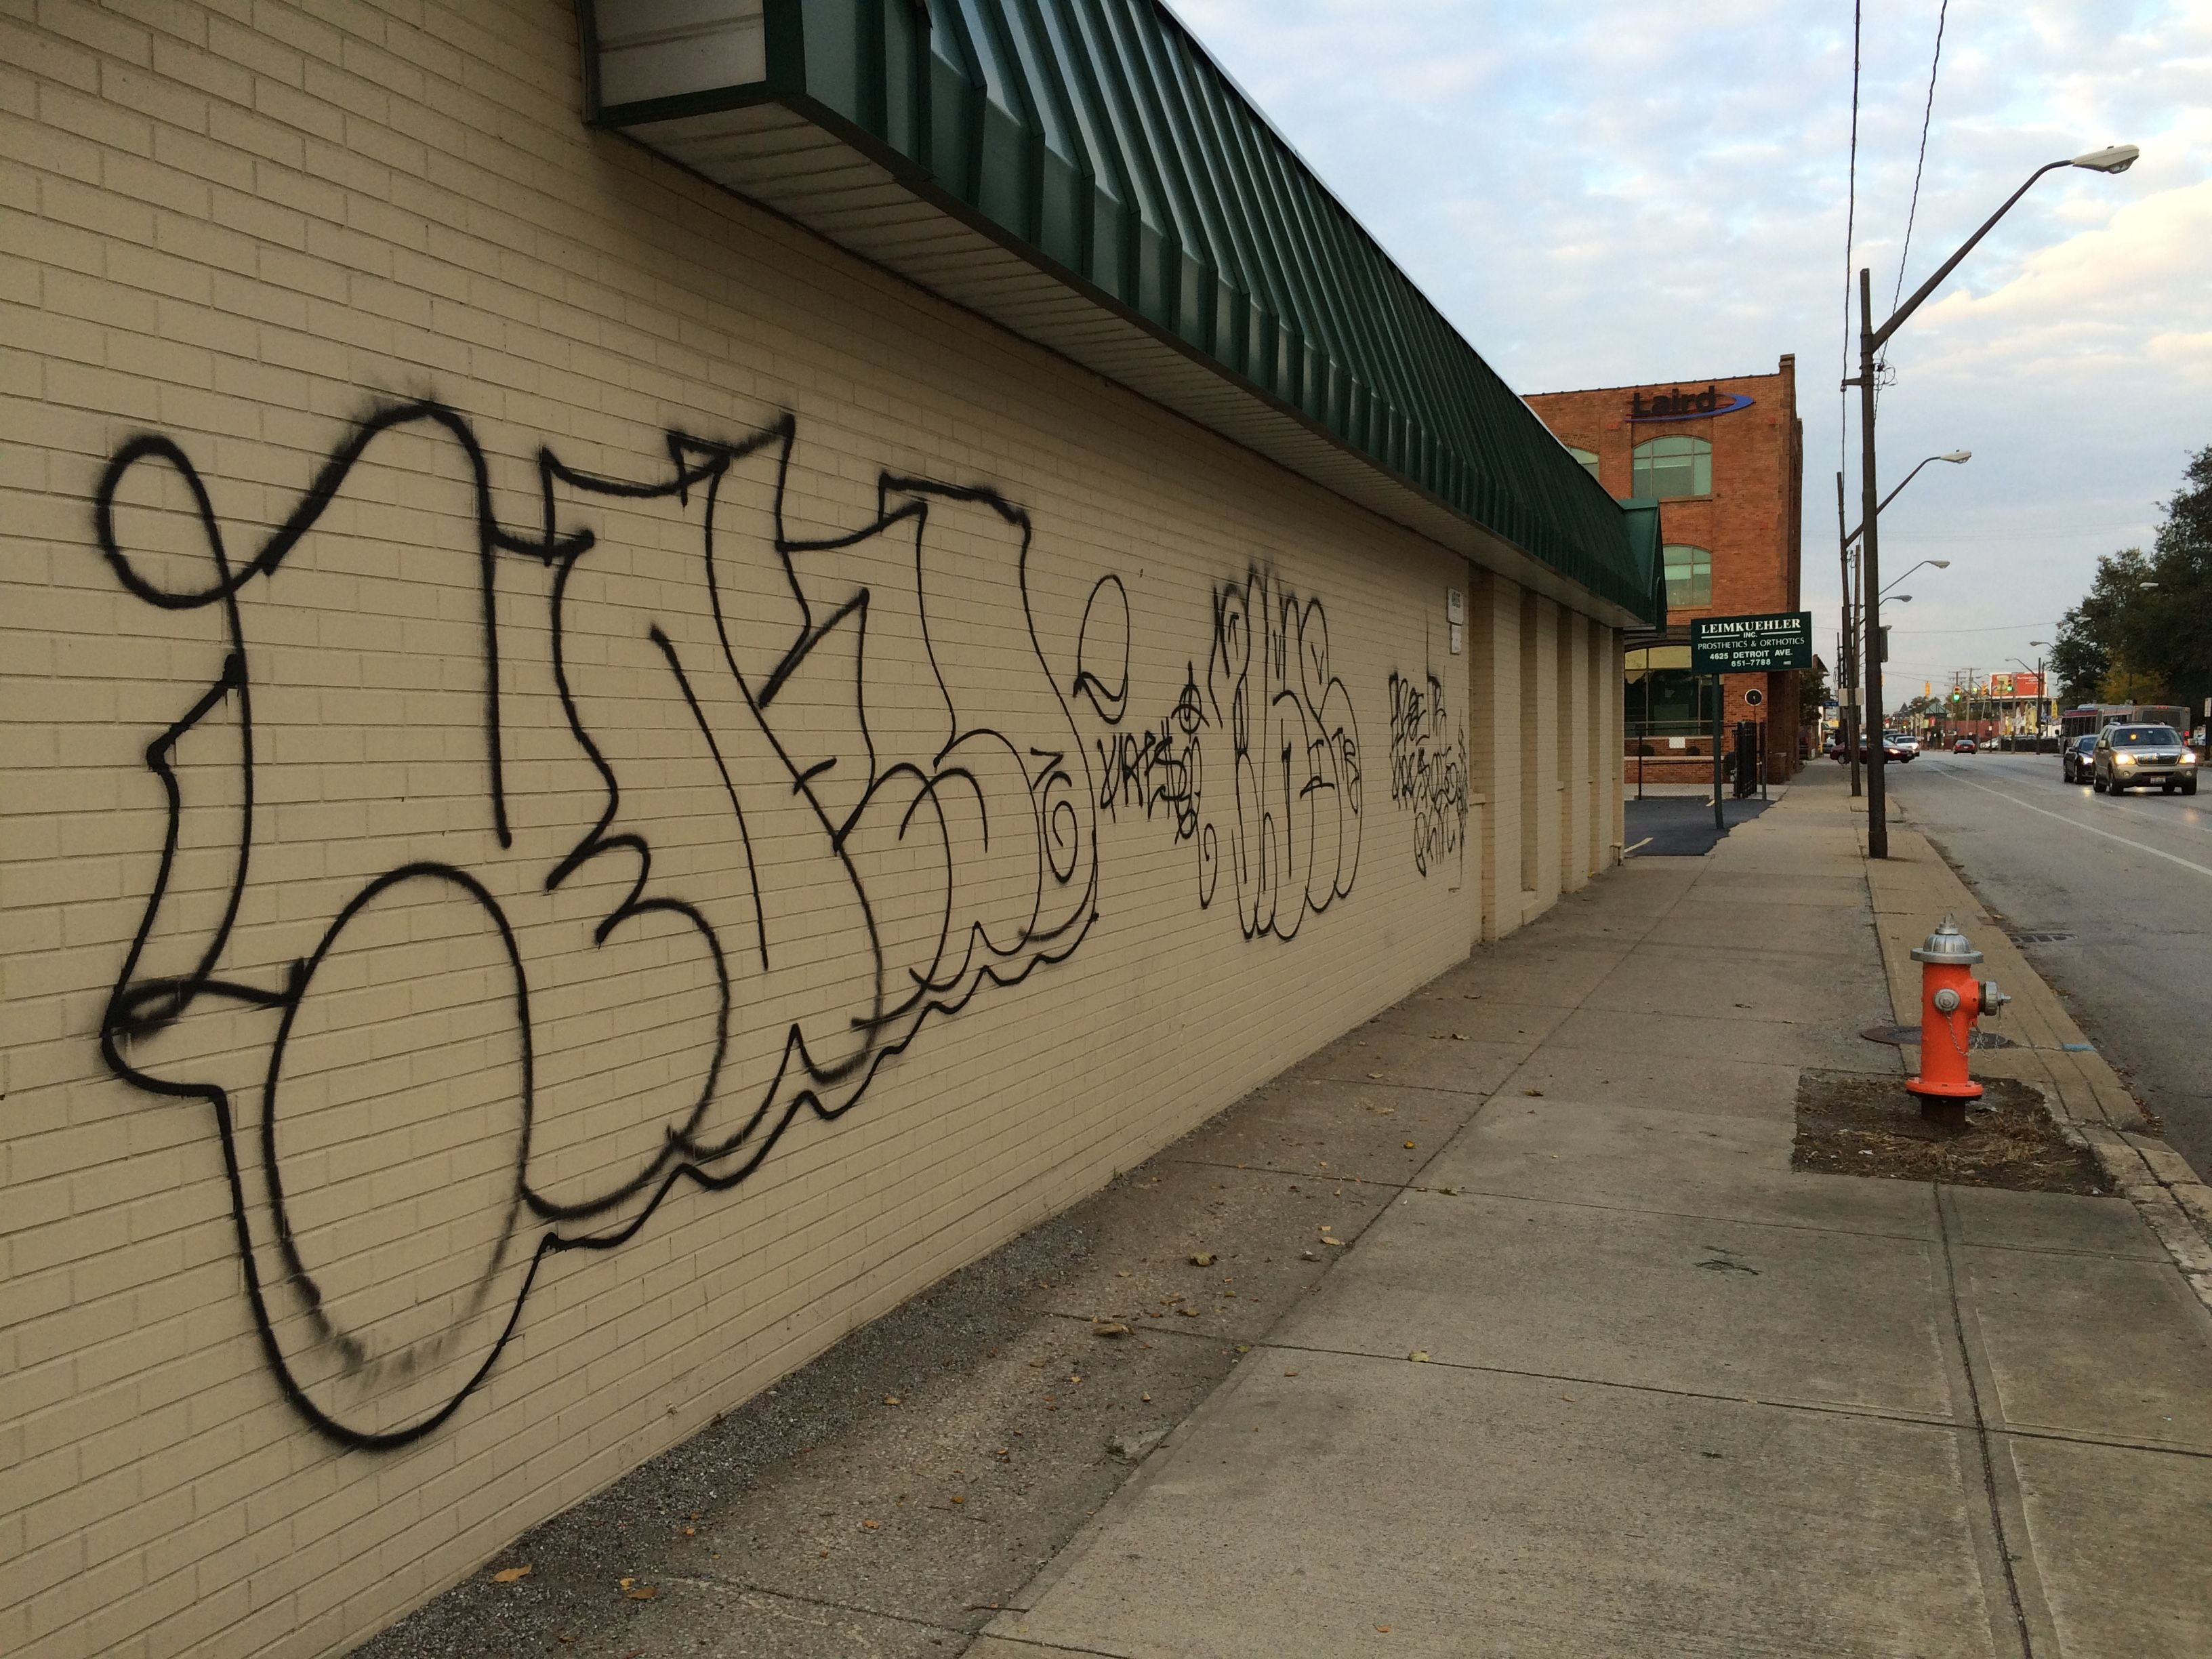graphite: (73, 382, 1099, 1420), (1228, 559, 1371, 951), (1082, 575, 1231, 932), (1383, 653, 1480, 908)
